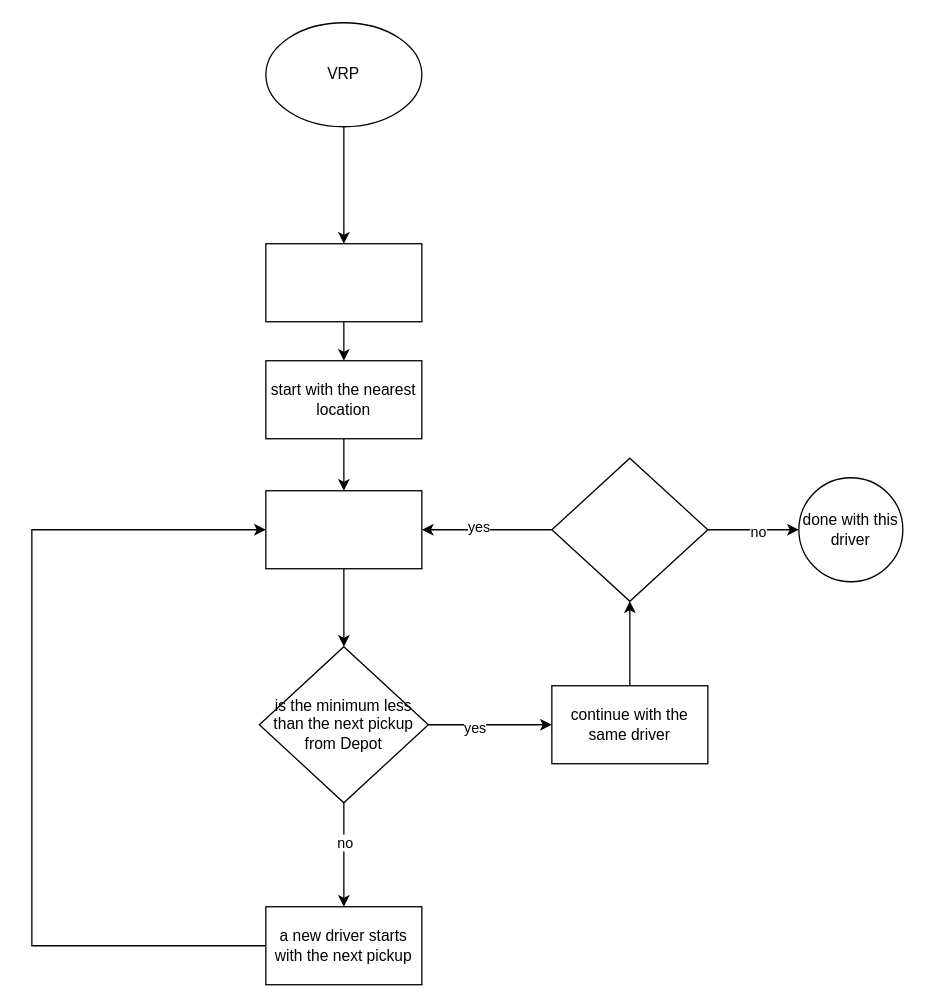
Some shapes in this 926 by 1007 pixel diagram are drawn without their labels. Each missing label, with the box of its shape:
find minimum between its dropoff and the remaining pickups: (265, 489, 422, 569)
is it less than 12 hours-shift: (551, 457, 708, 601)
sorting all pickup locations descending order: (265, 242, 422, 322)
